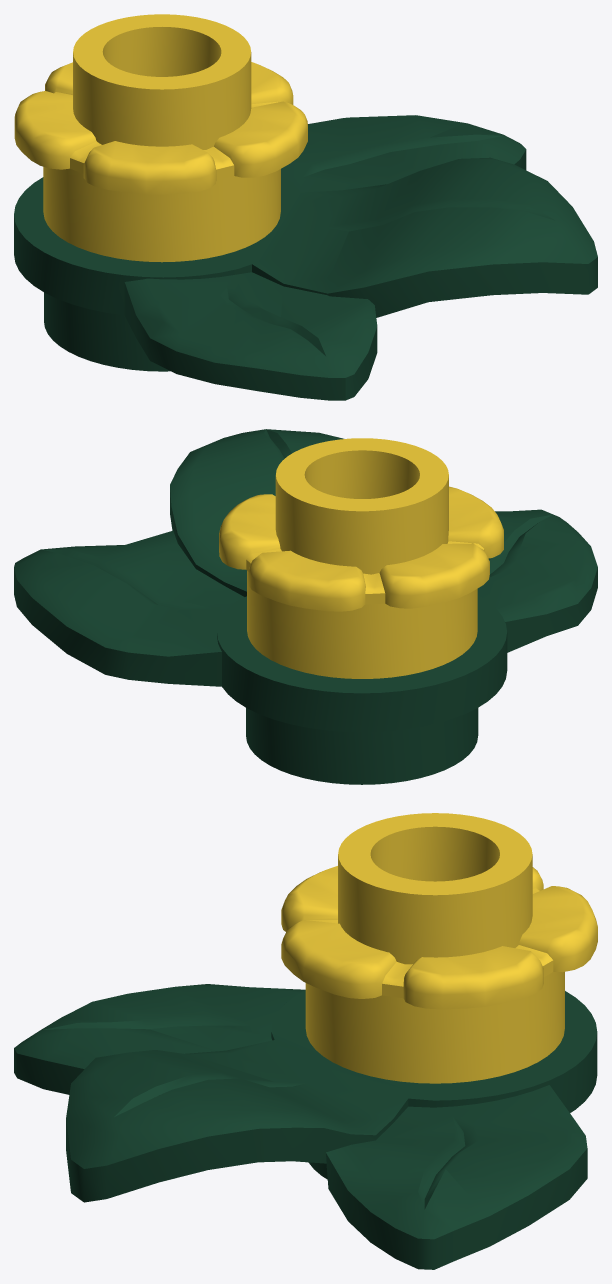
Rendered from flower.dae.
3 views of the same model, one above another, from view 1: azimuth 30°, elevation 25°; view 2: azimuth 150°, elevation 25°; view 3: azimuth 270°, elevation 25° (orthographic). The views are drawn at different scales.
Parts seen in each view (by area): view 1: Inner-Node-UntitledModel_dot_io-0, Inner-Node-UntitledModel_dot_io-1; view 2: Inner-Node-UntitledModel_dot_io-0, Inner-Node-UntitledModel_dot_io-1; view 3: Inner-Node-UntitledModel_dot_io-0, Inner-Node-UntitledModel_dot_io-1.
Boxes of the visible parts, x1,y1,x2,y2 form: Inner-Node-UntitledModel_dot_io-0: (14, 115, 597, 400); Inner-Node-UntitledModel_dot_io-1: (14, 14, 307, 262); Inner-Node-UntitledModel_dot_io-0: (14, 429, 597, 784); Inner-Node-UntitledModel_dot_io-1: (219, 438, 503, 678); Inner-Node-UntitledModel_dot_io-0: (14, 984, 597, 1269); Inner-Node-UntitledModel_dot_io-1: (281, 813, 597, 1083).
Size of the model in its own units: 37.35 by 19.75 by 35.59.
